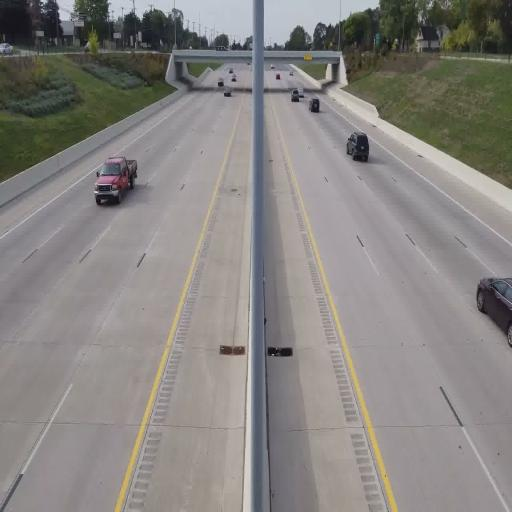Car: (476, 277, 512, 347), (346, 131, 369, 162)
Truck: (93, 153, 138, 205), (309, 98, 320, 112)
